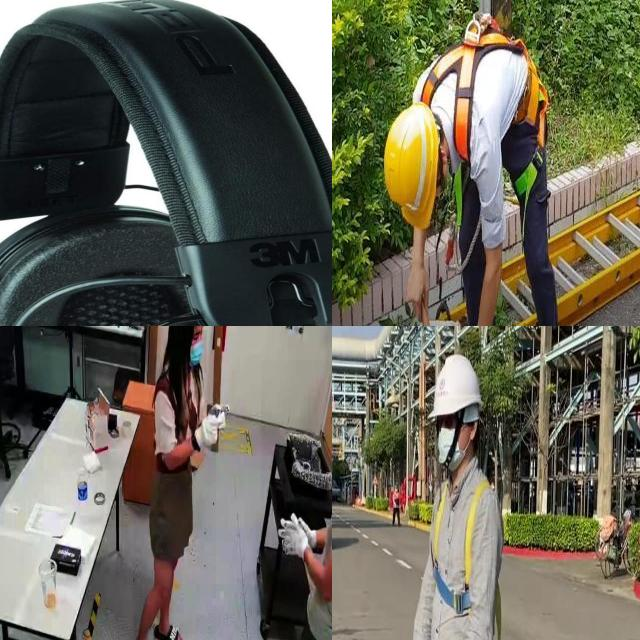Ear-protection: (0, 199, 198, 326)
Harness: (414, 12, 558, 252), (433, 480, 490, 615)
face_mask: (188, 330, 206, 373)
hand_glove: (280, 516, 320, 556), (194, 413, 220, 457)
person: (133, 326, 216, 640), (261, 360, 332, 640)
